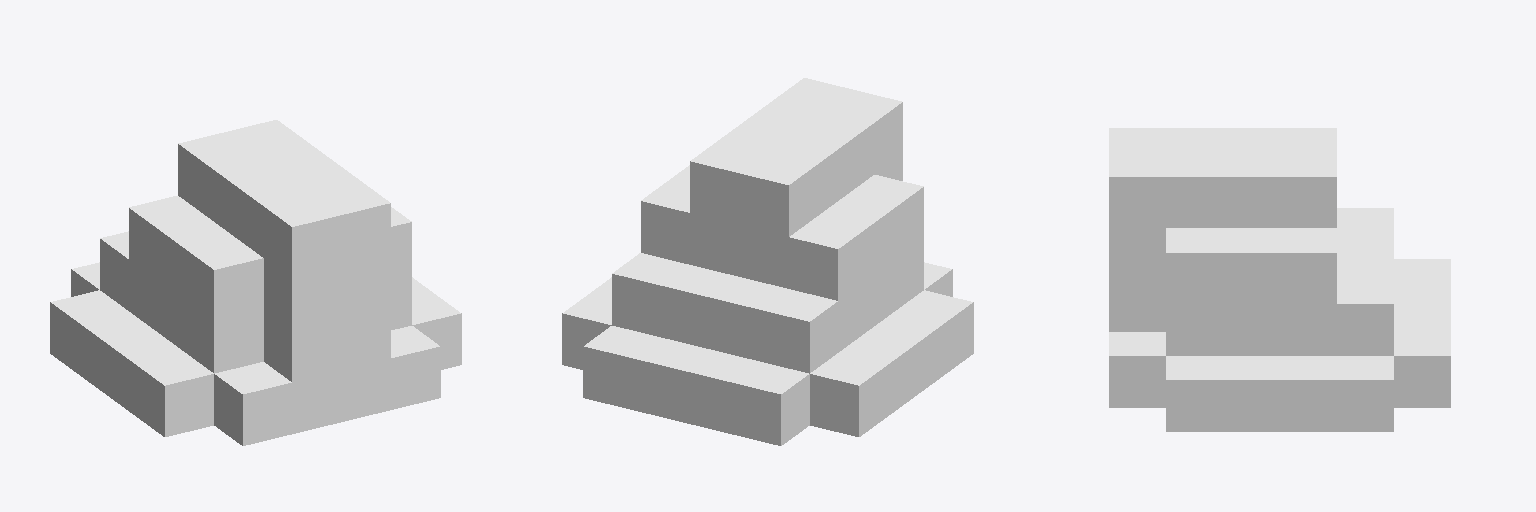
File: char-258-helm_lgt_3b_du_color.obj
3 renders of one model, left to right at view 1: azimuth 30°, elevation 25°; view 2: azimuth 150°, elevation 25°; view 3: azimuth 270°, elevation 25°, orthographic.
Visible parts, largest first — view 1: helm_lgt_3b_du_color; view 2: helm_lgt_3b_du_color; view 3: helm_lgt_3b_du_color.
Part boxes in pixels (bbox=[...]): helm_lgt_3b_du_color: bbox=[50, 120, 461, 445]; helm_lgt_3b_du_color: bbox=[562, 78, 973, 445]; helm_lgt_3b_du_color: bbox=[1109, 128, 1450, 431].
Bounding box in the file's own units: 0.6 × 0.4 × 0.6.